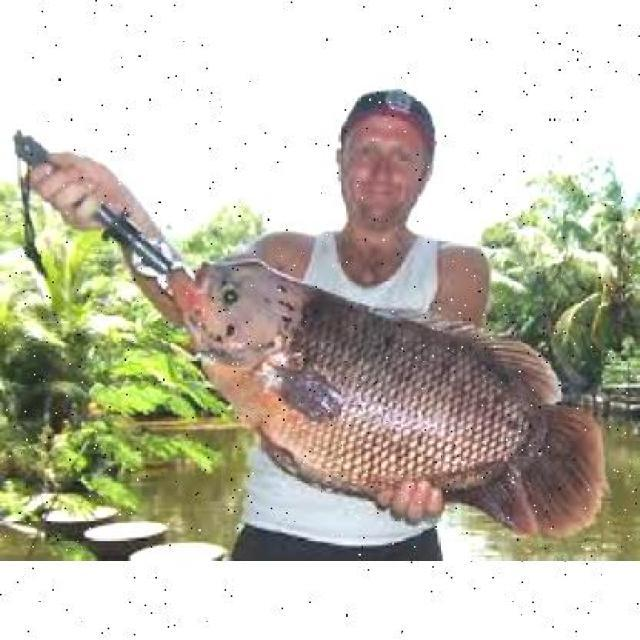gurame: (165, 248, 604, 537)
